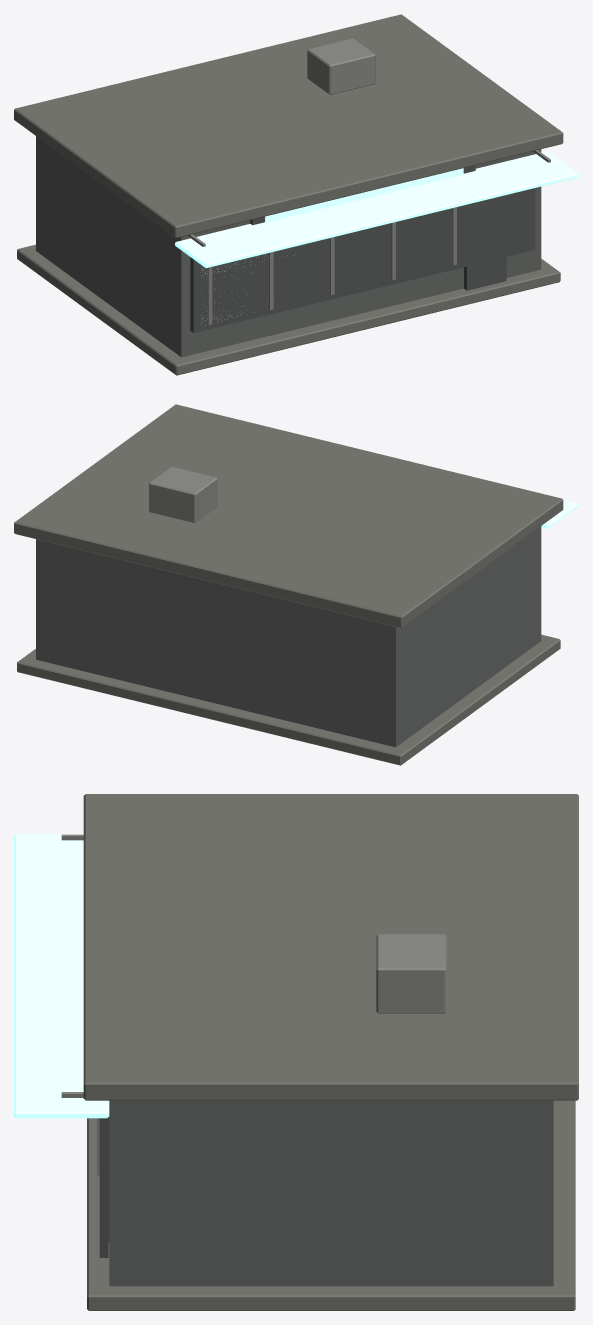
The model's file is shop_maintenance.glb.
3 renders of one model, top to bottom at view 1: azimuth 30°, elevation 25°; view 2: azimuth 150°, elevation 25°; view 3: azimuth 270°, elevation 25°, orthographic. The views are drawn at different scales.
Visible parts, largest first — view 1: shop_maintenance_Concrete@utility, shop_maintenance_Graphite@utility, shop_maintenance_DarkAlloy@utility, shop_maintenance_Cyan, shop_maintenance_Steel@utility; view 2: shop_maintenance_Concrete@utility, shop_maintenance_Graphite@utility, shop_maintenance_Steel@utility; view 3: shop_maintenance_Concrete@utility, shop_maintenance_Graphite@utility, shop_maintenance_Cyan, shop_maintenance_Steel@utility, shop_maintenance_DarkAlloy@utility.
Part boxes in pixels (<box>): shop_maintenance_Concrete@utility: <box>14,14,563,375</box>; shop_maintenance_Graphite@utility: <box>36,136,541,357</box>; shop_maintenance_DarkAlloy@utility: <box>190,165,535,333</box>; shop_maintenance_Cyan: <box>175,151,578,268</box>; shop_maintenance_Steel@utility: <box>187,38,550,324</box>; shop_maintenance_Concrete@utility: <box>14,404,563,765</box>; shop_maintenance_Graphite@utility: <box>36,526,541,747</box>; shop_maintenance_Steel@utility: <box>149,466,217,523</box>; shop_maintenance_Concrete@utility: <box>83,794,578,1310</box>; shop_maintenance_Graphite@utility: <box>109,1100,553,1286</box>; shop_maintenance_Cyan: <box>14,834,109,1118</box>; shop_maintenance_Steel@utility: <box>61,834,446,1175</box>; shop_maintenance_DarkAlloy@utility: <box>99,1117,109,1257</box>.
Bounding box in the file's own units: 10.8 × 4.8 × 8.9.
